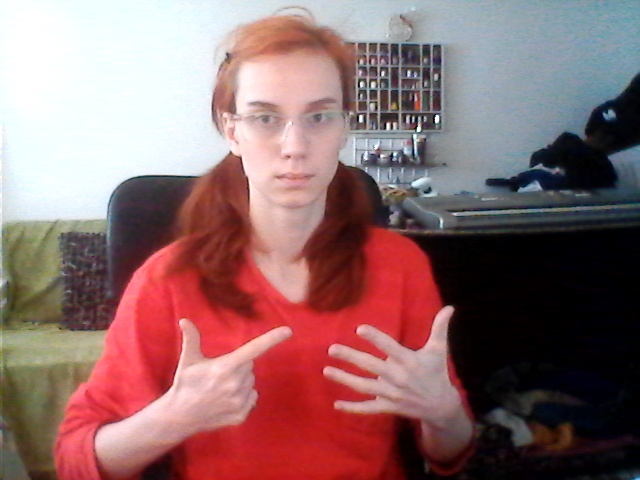sedem: (175, 306, 473, 430)
